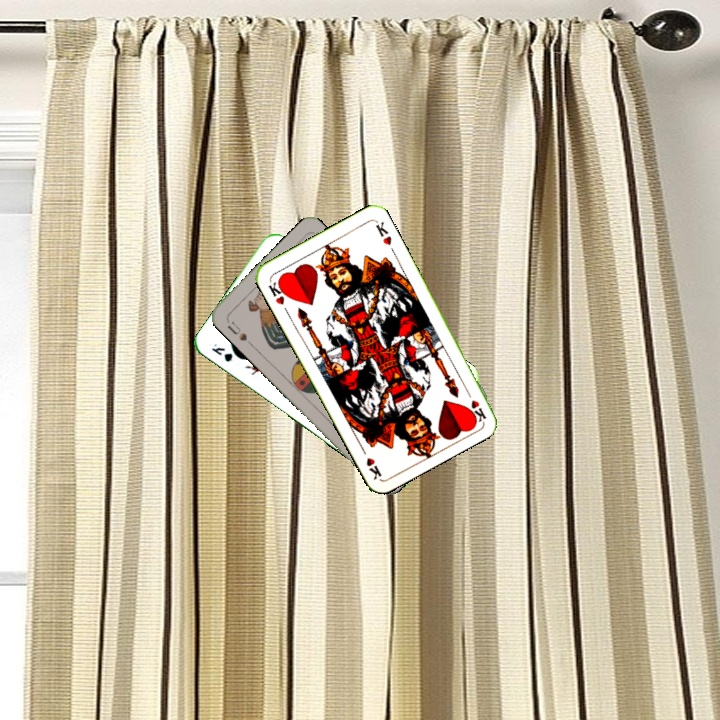GK: (207, 340, 235, 365)
HK: (461, 384, 488, 424), (264, 276, 290, 307)
SU: (223, 315, 255, 348)
